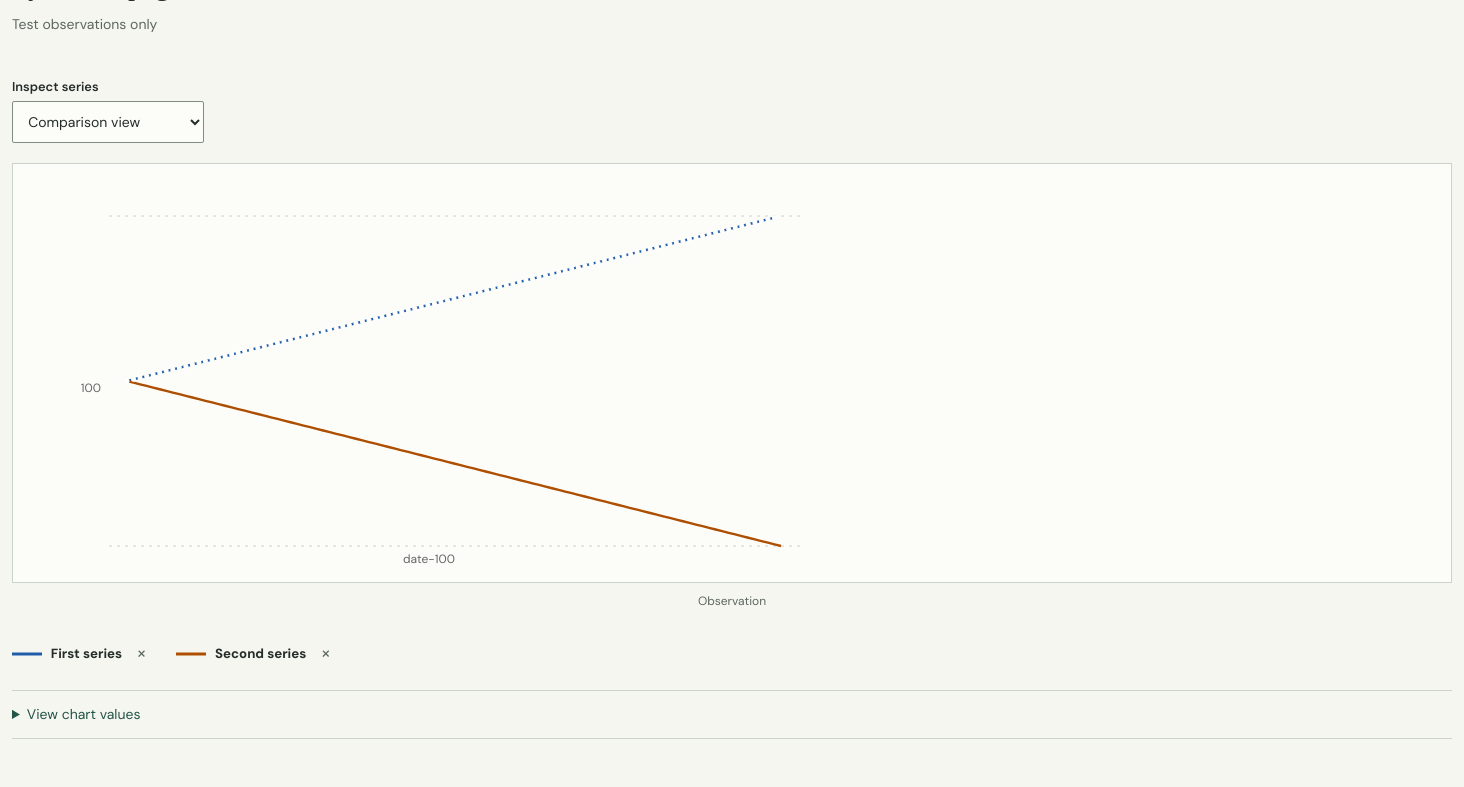
Scenario: chart value pagination › mounts values only when opened, exposes every row in source order and preserves missing values
This screenshot has width=1464, height=787.
(page scrolled)
Click the heading "View chart values" at (84, 714), box [27, 705, 140, 723]
(page scrolled)
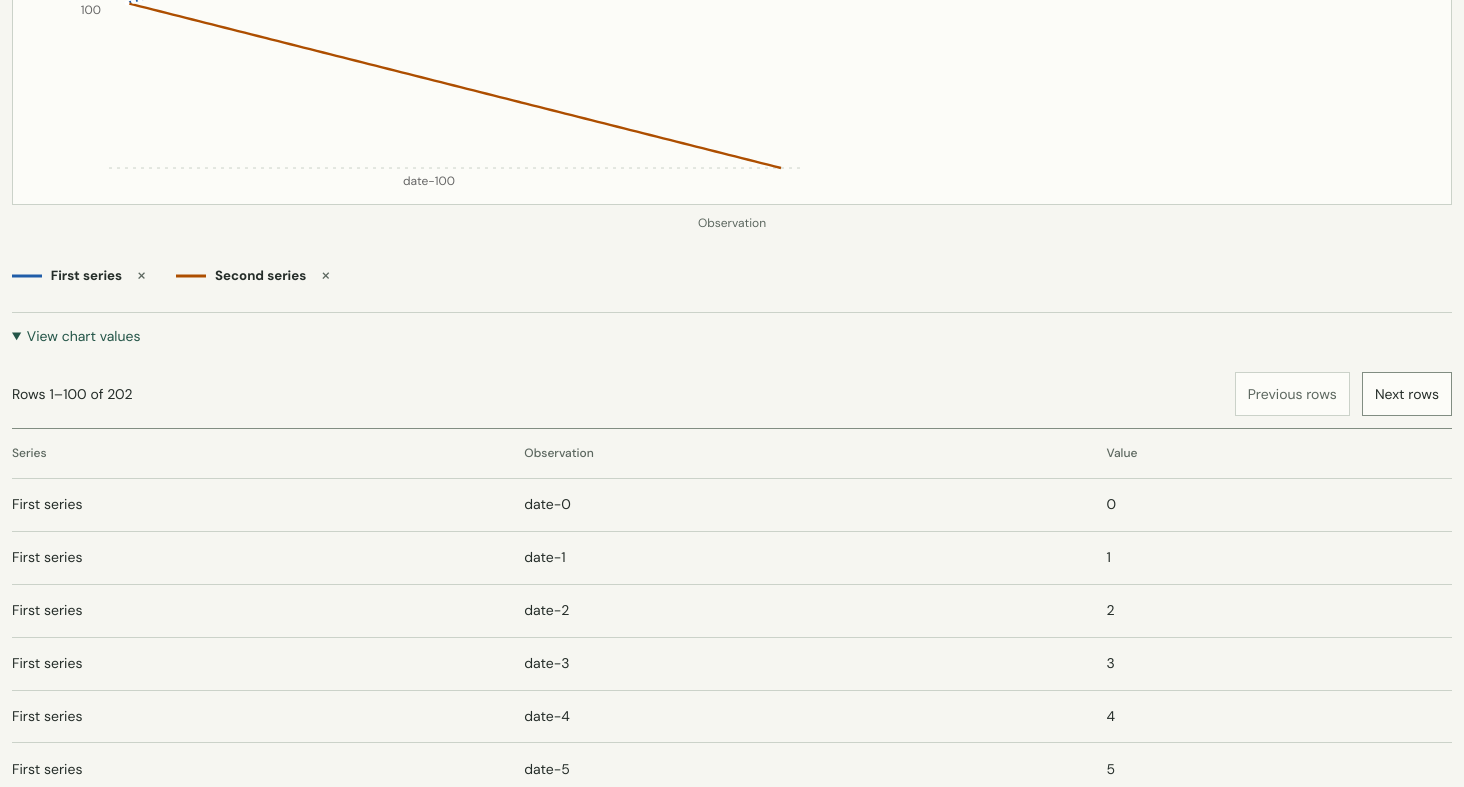
expect the number of rows is 101: met
expect the button "Previous rows" is disabled: met, box [1235, 372, 1350, 416]
Click the button "Next rows" at (1407, 394), box [1362, 372, 1452, 416]
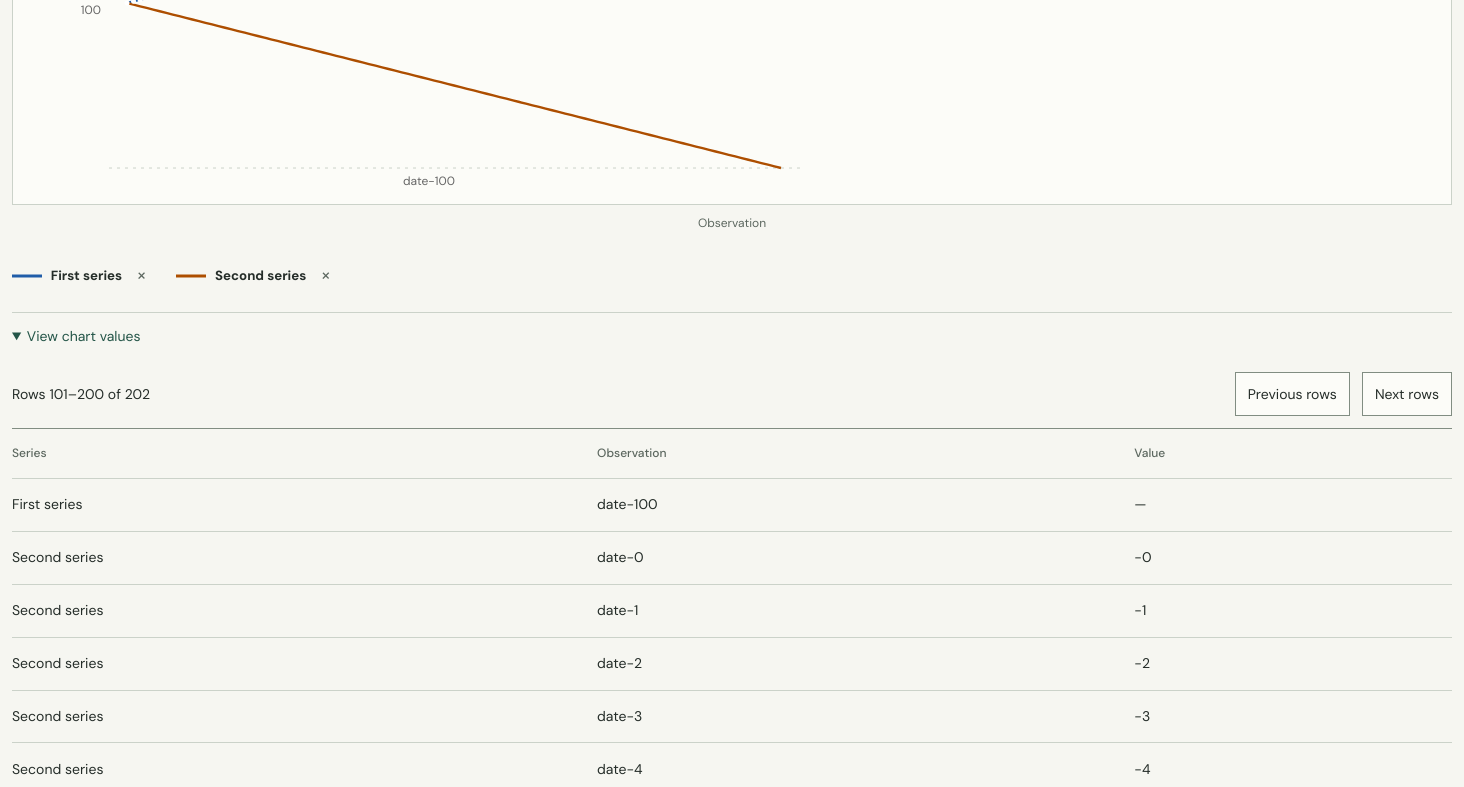
expect the row "First series date-100 —" is shown: met, box [12, 479, 1452, 531]
expect the row "Second series date-0 -0" is shown: met, box [12, 531, 1452, 584]
Click the button "Next rows" at (1407, 394), box [1362, 372, 1452, 416]
(page scrolled)
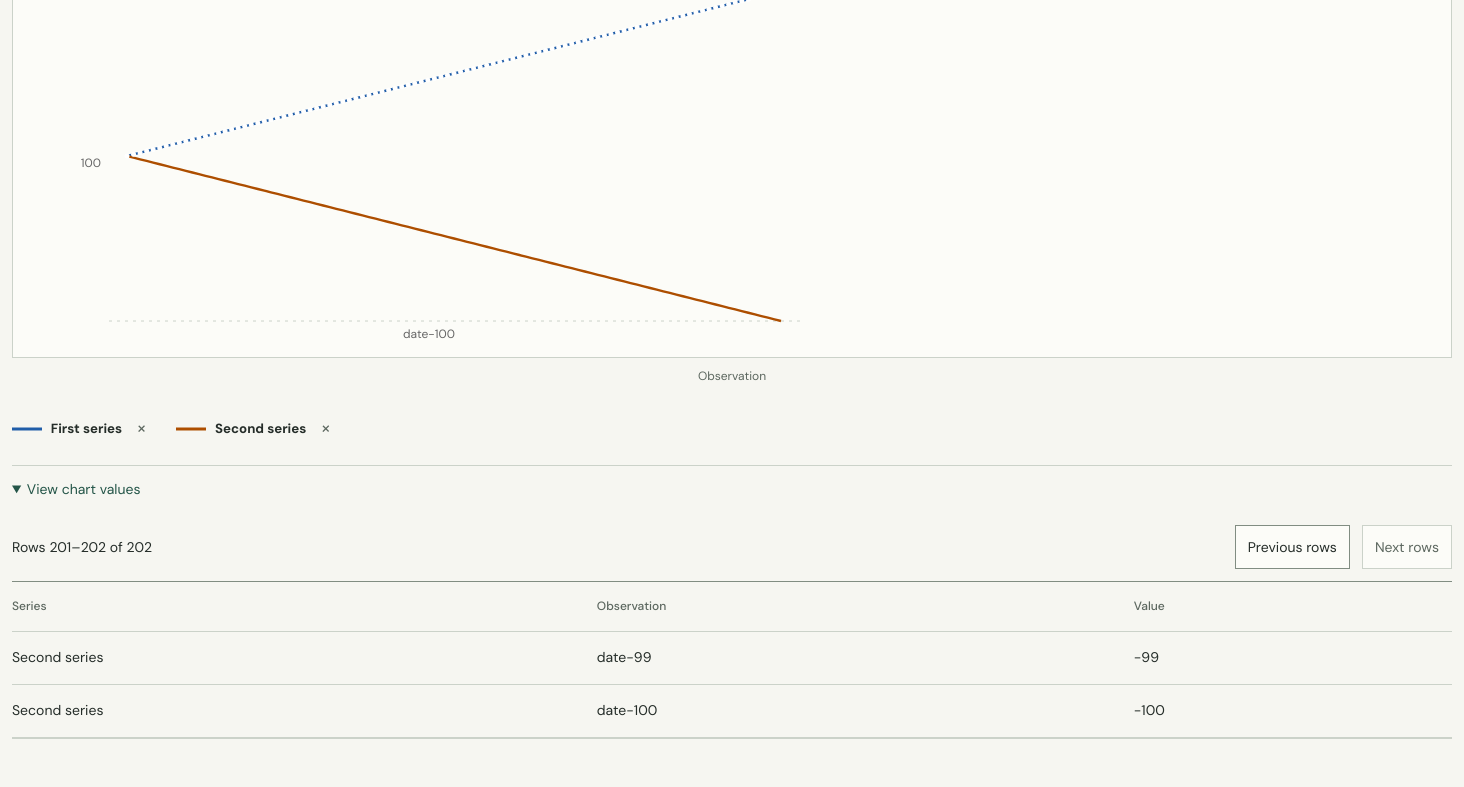
expect the number of rows is 3: met, box [12, 582, 1452, 632]; [12, 632, 1452, 684]; [12, 684, 1452, 737]
expect the row "Second series date-100 -100" is shown: met, box [12, 684, 1452, 737]
expect the button "Next rows" is disabled: met, box [1362, 525, 1452, 569]
